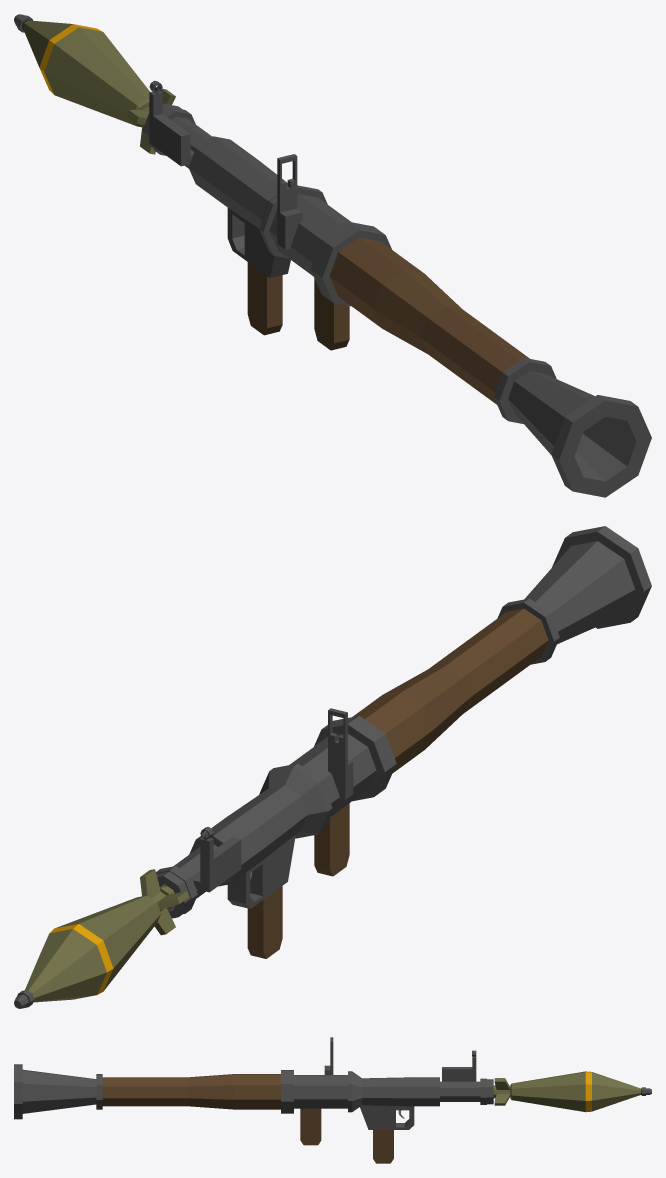
File: RPG7.fbx
3 views of the same model, one above another, from view 1: azimuth 30°, elevation 25°; view 2: azimuth 150°, elevation 25°; view 3: azimuth 270°, elevation 25° (orthographic). The views are drawn at different scales.
Visible parts, largest first — view 1: RPG7, Rocket; view 2: RPG7, Rocket; view 3: RPG7, Rocket.
Boxes of the visible parts, left/top/right/bottom form: RPG7: left=142, top=80, right=651, bottom=497; Rocket: left=14, top=14, right=175, bottom=154; RPG7: left=156, top=526, right=651, bottom=958; Rocket: left=14, top=869, right=188, bottom=1008; RPG7: left=14, top=1037, right=493, bottom=1163; Rocket: left=493, top=1071, right=651, bottom=1112.
Bounding box in the file's own units: 116 × 253 × 1269.
Materials: 1 (1 with a texture image).
